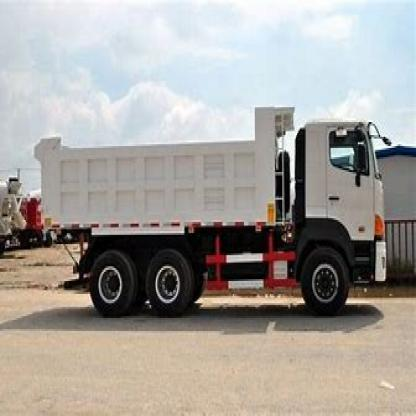dump_truck: (42, 83, 388, 342)
